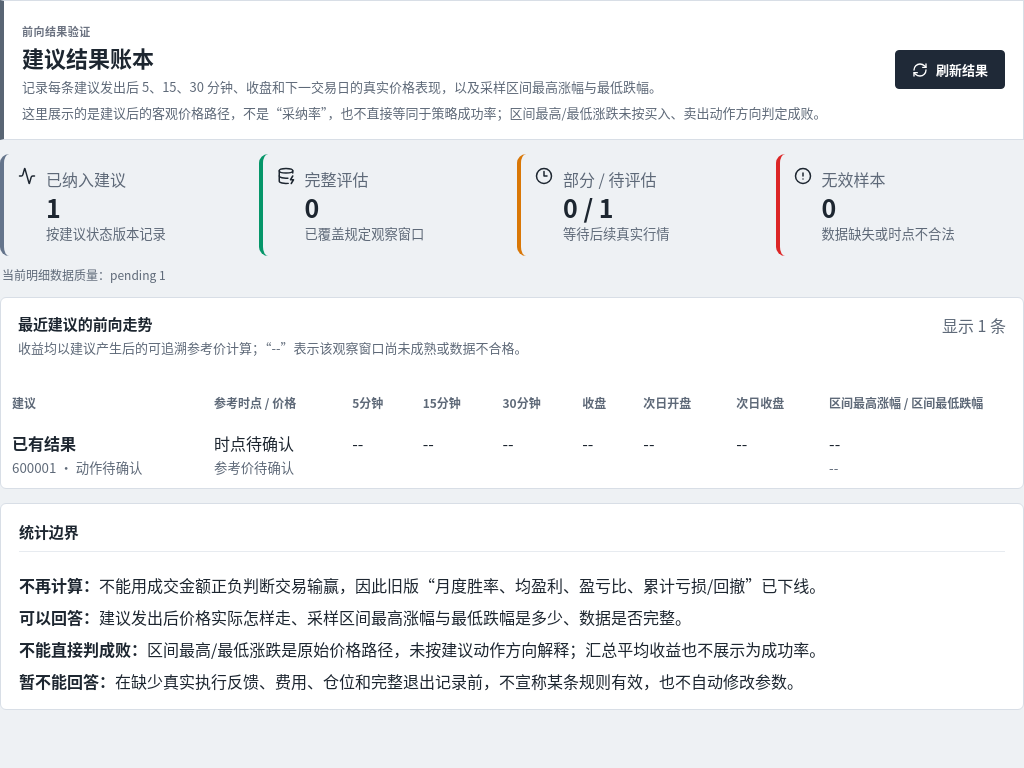
it: 建议结果账本 › 刷新接口失败时明确保留上一次持久化结果
Check: the text "已有结果" is shown, box [12,431,76,455]
Click the button "刷新结果" at (950, 70), box [895,50,1005,89]
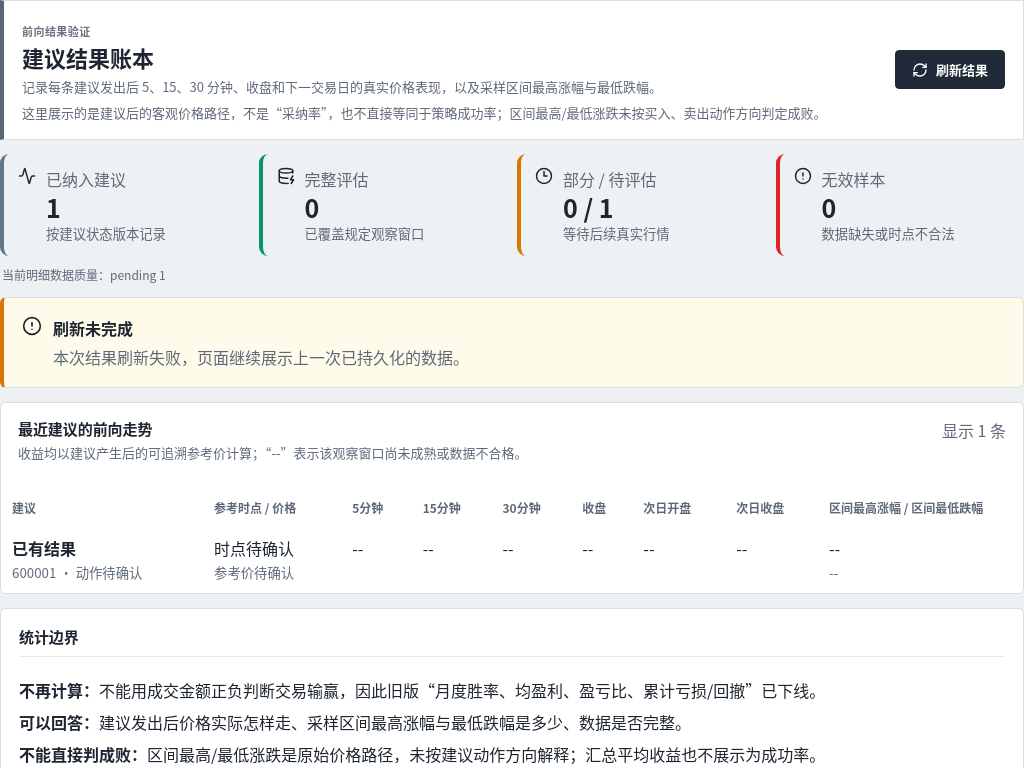
Check: the text "已有结果" is shown, box [12,536,76,560]
Check: the text "刷新未完成" is shown, box [53,316,133,340]
Check: the text "本次结果刷新失败，页面继续展示上一次已持久化的数据。" is shown, box [53,345,469,369]
